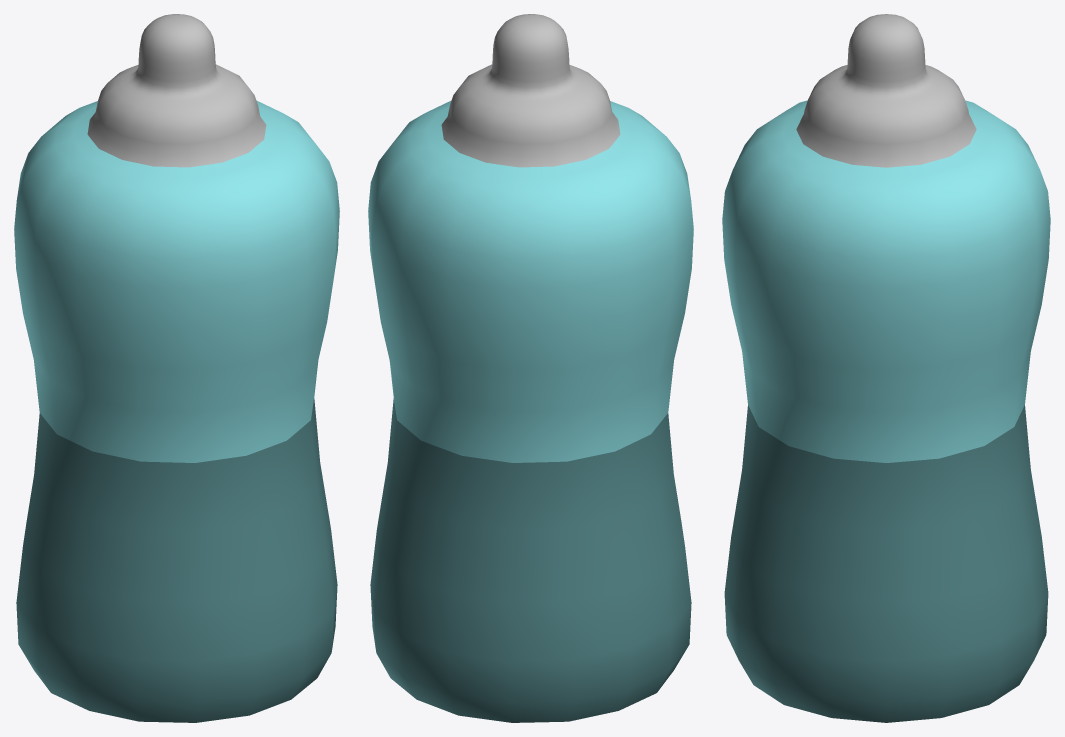
Rendered from biberon.fbx.
3 views of the same model, side by side, from view 1: azimuth 30°, elevation 25°; view 2: azimuth 150°, elevation 25°; view 3: azimuth 270°, elevation 25° (orthographic).
Visible parts, largest first — view 1: Cylinder; view 2: Cylinder; view 3: Cylinder.
Boxes of the visible parts, bbox=[...] form: Cylinder: bbox=[14, 14, 339, 722]; Cylinder: bbox=[368, 14, 693, 722]; Cylinder: bbox=[722, 14, 1050, 722].
Size of the model in its own units: 172 by 382 by 172.
